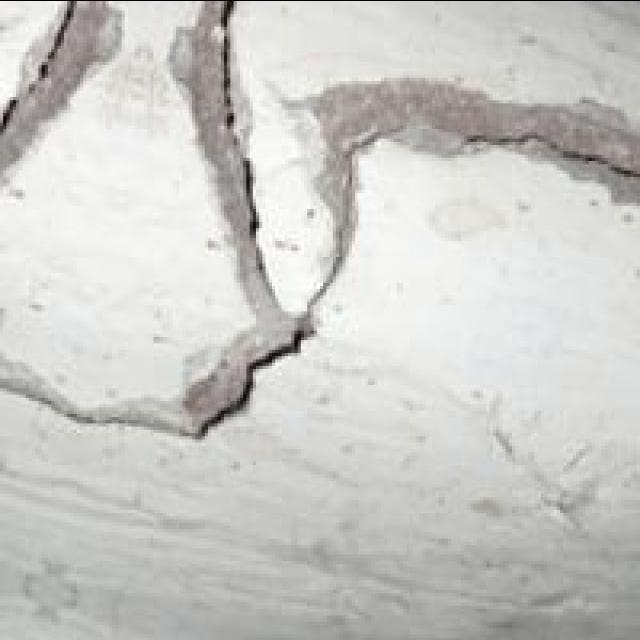SurfaceCrack: (184, 0, 640, 326), (0, 276, 348, 502), (0, 10, 144, 144)
